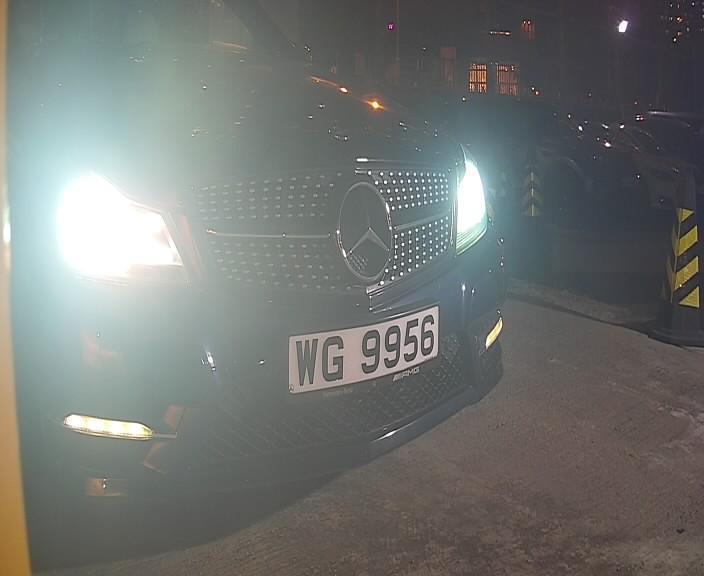License Plate: (283, 301, 447, 397)
